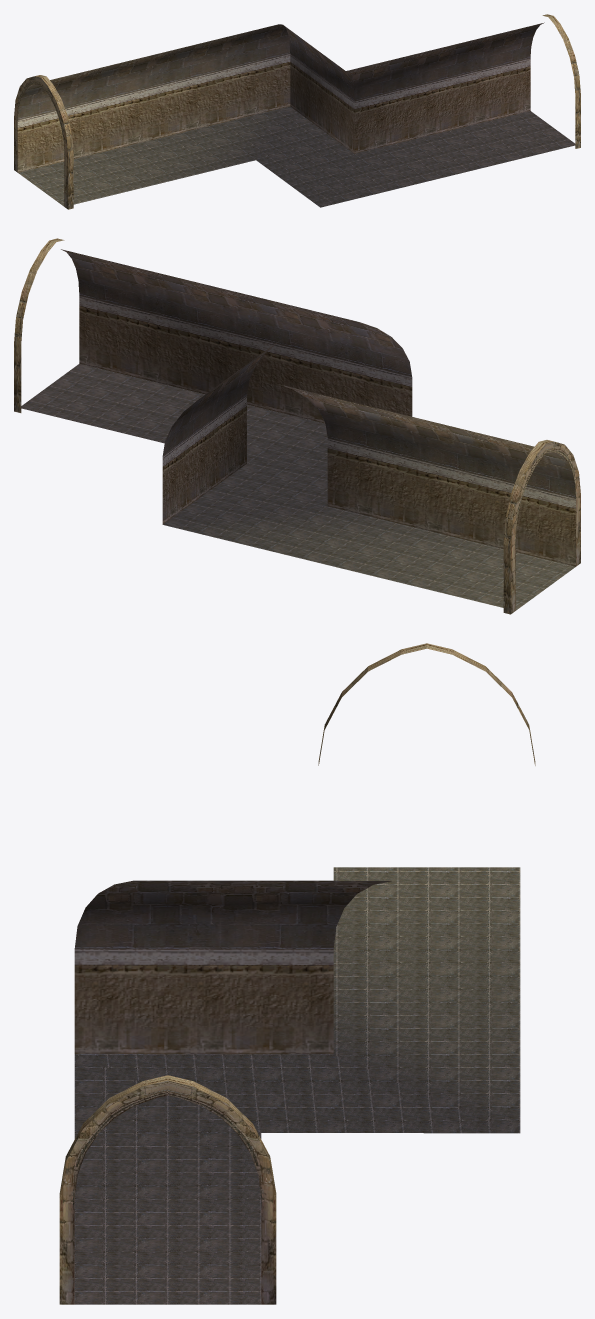
The model's file is M7Z4_Tunnel5.glb.
The picture shows the model from 3 angles, top to bottom: view 1: azimuth 30°, elevation 25°; view 2: azimuth 150°, elevation 25°; view 3: azimuth 270°, elevation 25°; orthographic projection. The views are drawn at different scales.
Visible parts, largest first — view 1: M7Z4_TUNNEL5; view 2: M7Z4_TUNNEL5; view 3: M7Z4_TUNNEL5.
Boxes of the visible parts, x1,y1,x2,y2 form: M7Z4_TUNNEL5: (14,14,580,209); M7Z4_TUNNEL5: (14,238,580,614); M7Z4_TUNNEL5: (59,643,535,1304).
Size of the model in its own units: 16.41 by 3.92 by 7.54.
5 materials, 5 textured.
